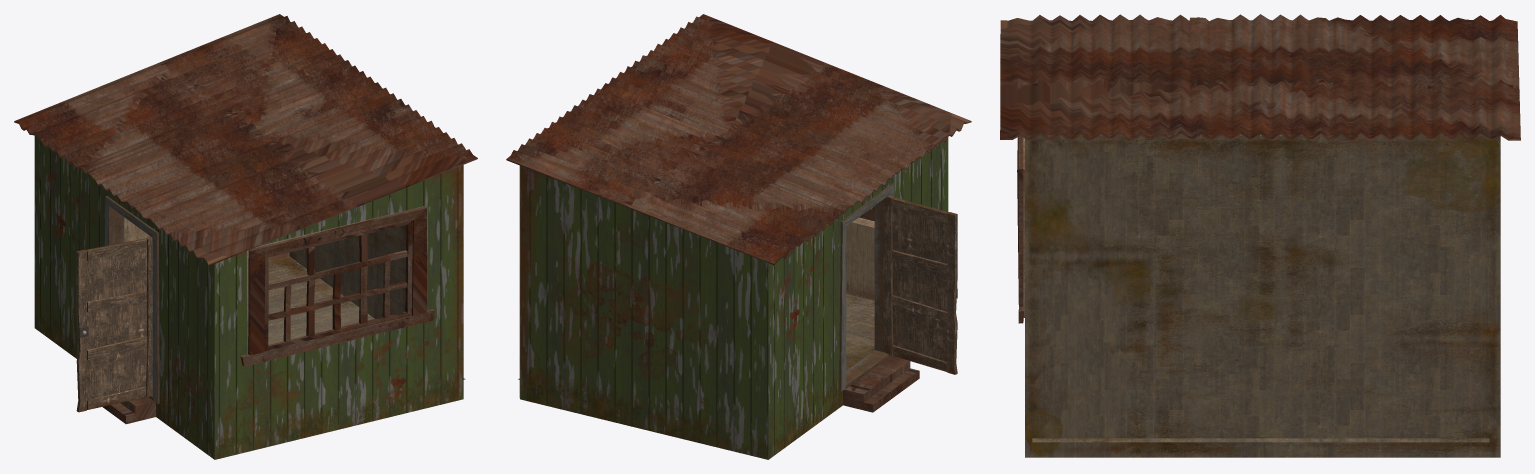
Rendered from house - Copy.fbx.
3 views of the same model, side by side, from view 1: azimuth 30°, elevation 25°; view 2: azimuth 150°, elevation 25°; view 3: azimuth 270°, elevation 25° (orthographic). The views are drawn at different scales.
Parts seen in each view (by area): view 1: Box009 (×2), polySurface38, polySurface36, polySurface37, polySurface39; view 2: Box009 (×2), polySurface38, polySurface39, polySurface37, polySurface36; view 3: polySurface36, Box009, polySurface37.
Part boxes in pixels (x1,y1,x2,y2): Box009 (×2): (14, 14, 477, 459); polySurface38: (76, 236, 152, 412); polySurface36: (285, 23, 460, 318); polySurface37: (268, 256, 465, 379); polySurface39: (104, 196, 159, 403); Box009 (×2): (506, 14, 971, 459); polySurface38: (883, 195, 957, 374); polySurface39: (839, 183, 894, 391); polySurface37: (518, 294, 874, 379); polySurface36: (519, 24, 698, 397); polySurface36: (1025, 135, 1500, 457); Box009: (1000, 14, 1520, 323); polySurface37: (1032, 438, 1489, 442).
Bounding box in the file's own units: 426 × 311 × 445.
4 materials, 4 textured.
